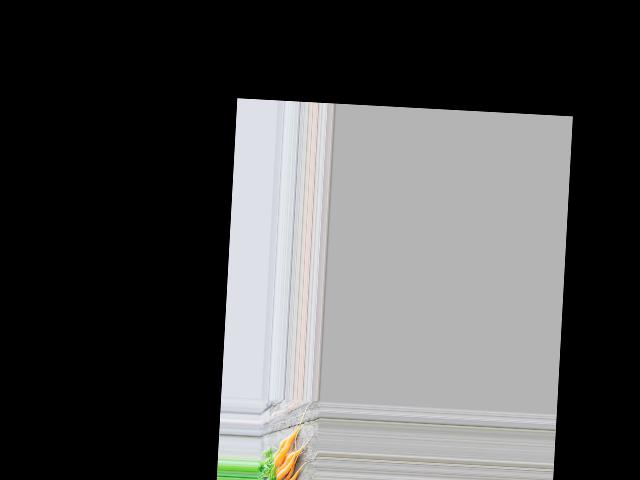carrot: (272, 430, 296, 471)
